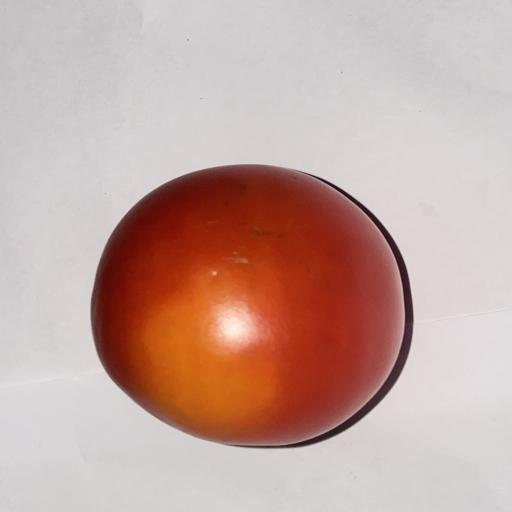ripe: (91, 165, 405, 445)
